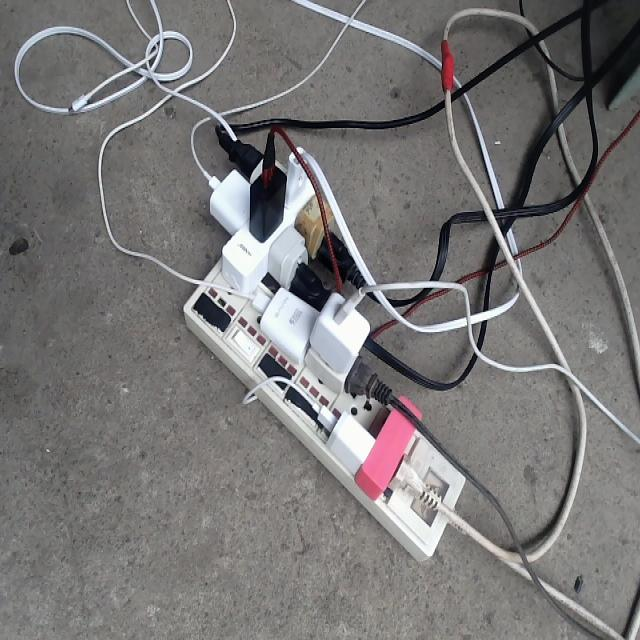-: (180, 132, 465, 559)
